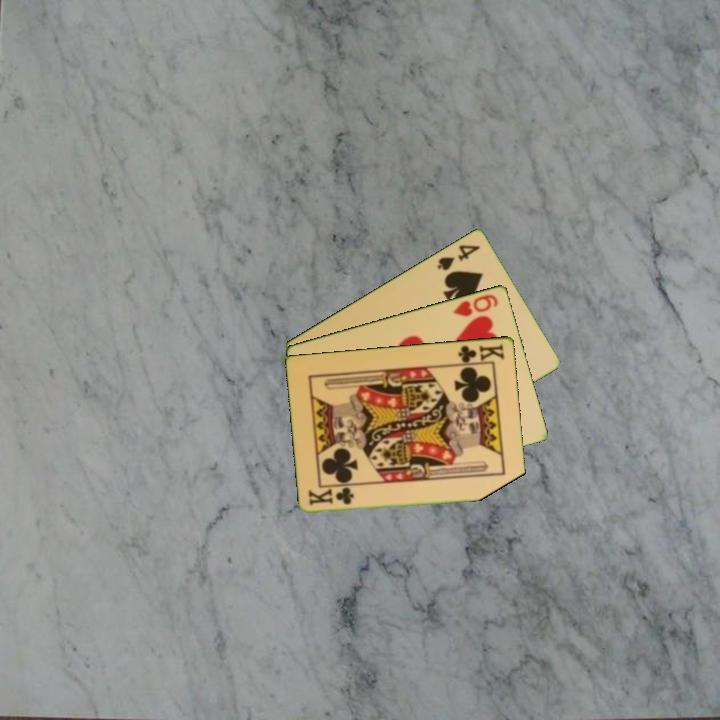4s: (434, 241, 483, 273)
6h: (450, 290, 501, 319)
Kc: (453, 340, 507, 367), (305, 486, 357, 508)
